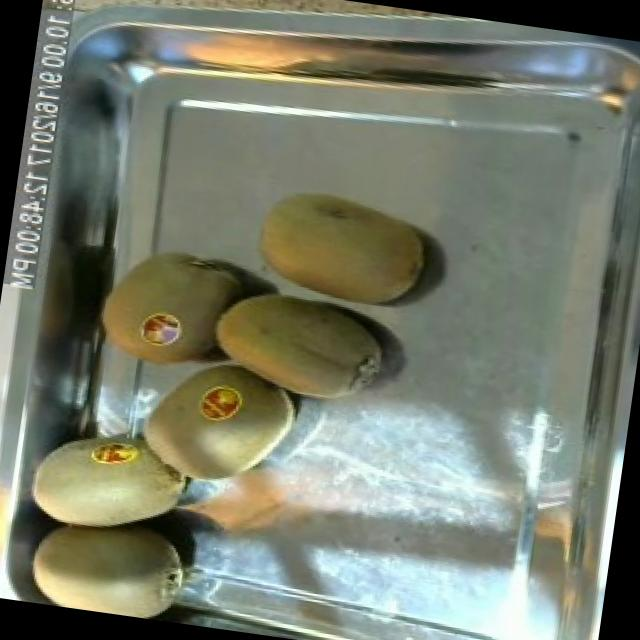Fruit: (238, 172, 444, 326), (194, 270, 401, 422), (121, 359, 311, 508), (12, 410, 203, 542), (8, 506, 207, 626)
